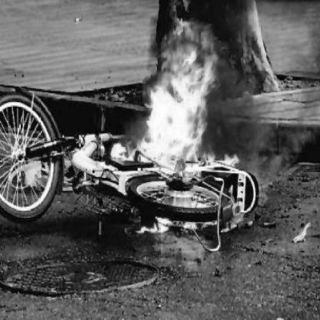Fire: (97, 15, 240, 171), (139, 209, 200, 239)
